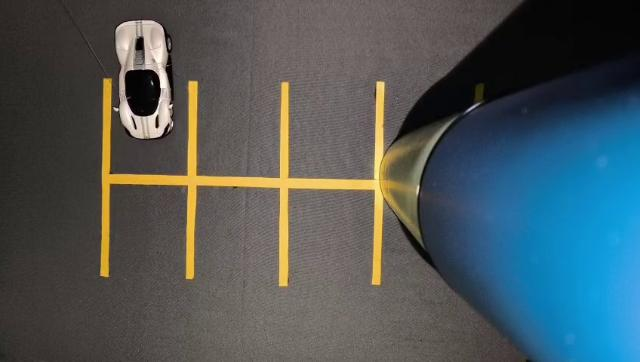toy_car: (88, 0, 193, 162)
